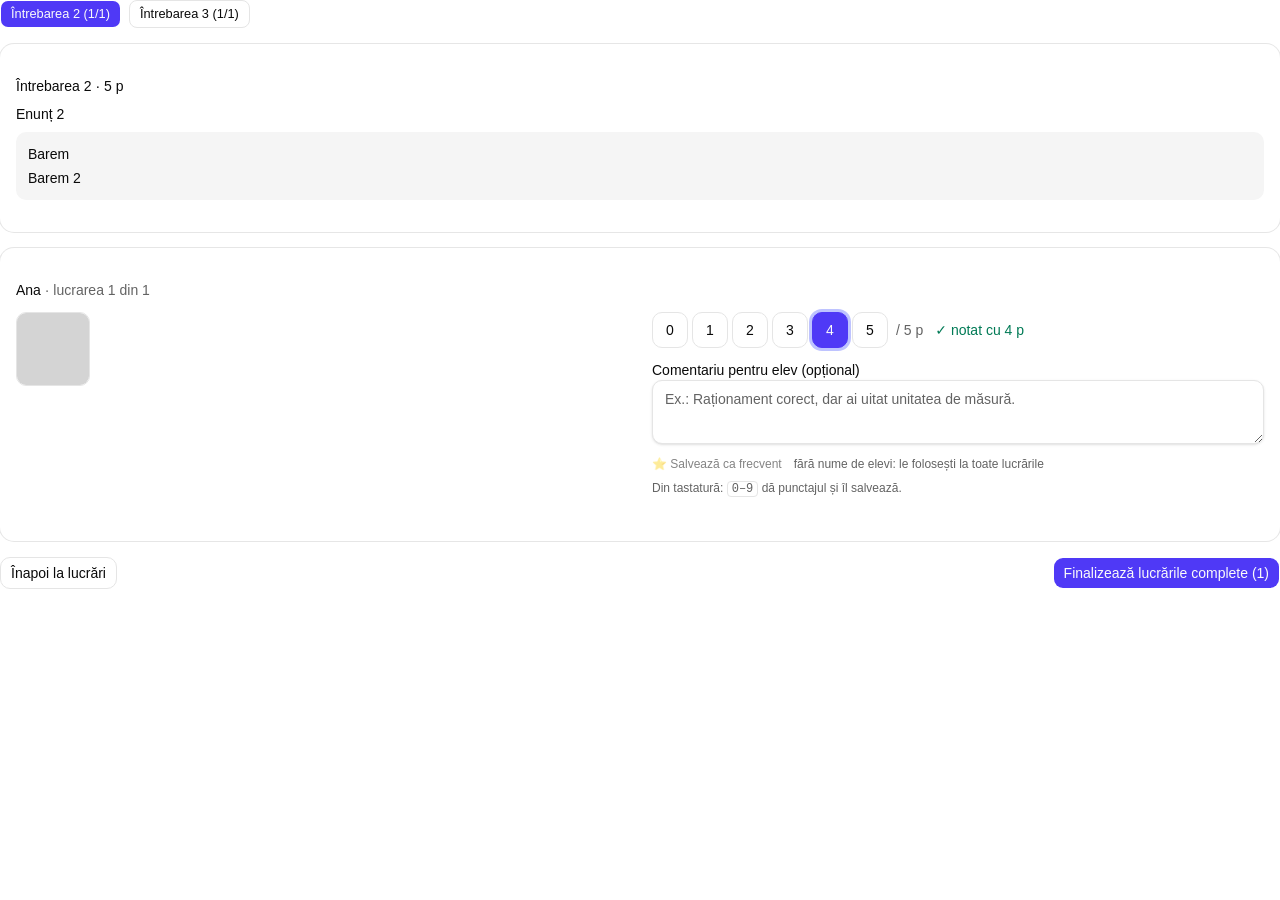
GradeByItem › says so when every paper is finalised
Click the button "Finalizează lucrările complete (1)".
click(1166, 573)  # box [1053,557,1279,589]
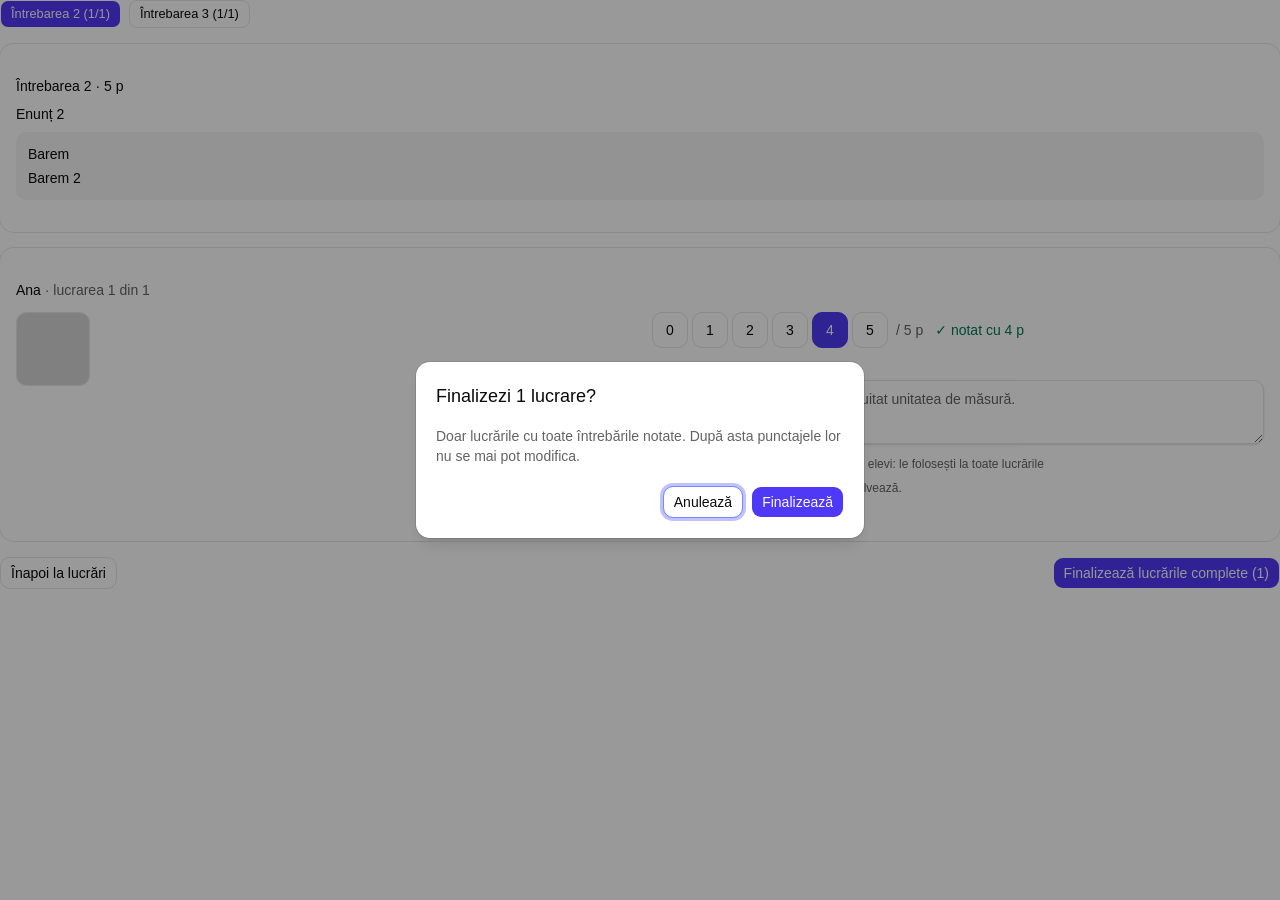
Click the button "Finalizează".
click(798, 502)  # box [751,486,844,518]
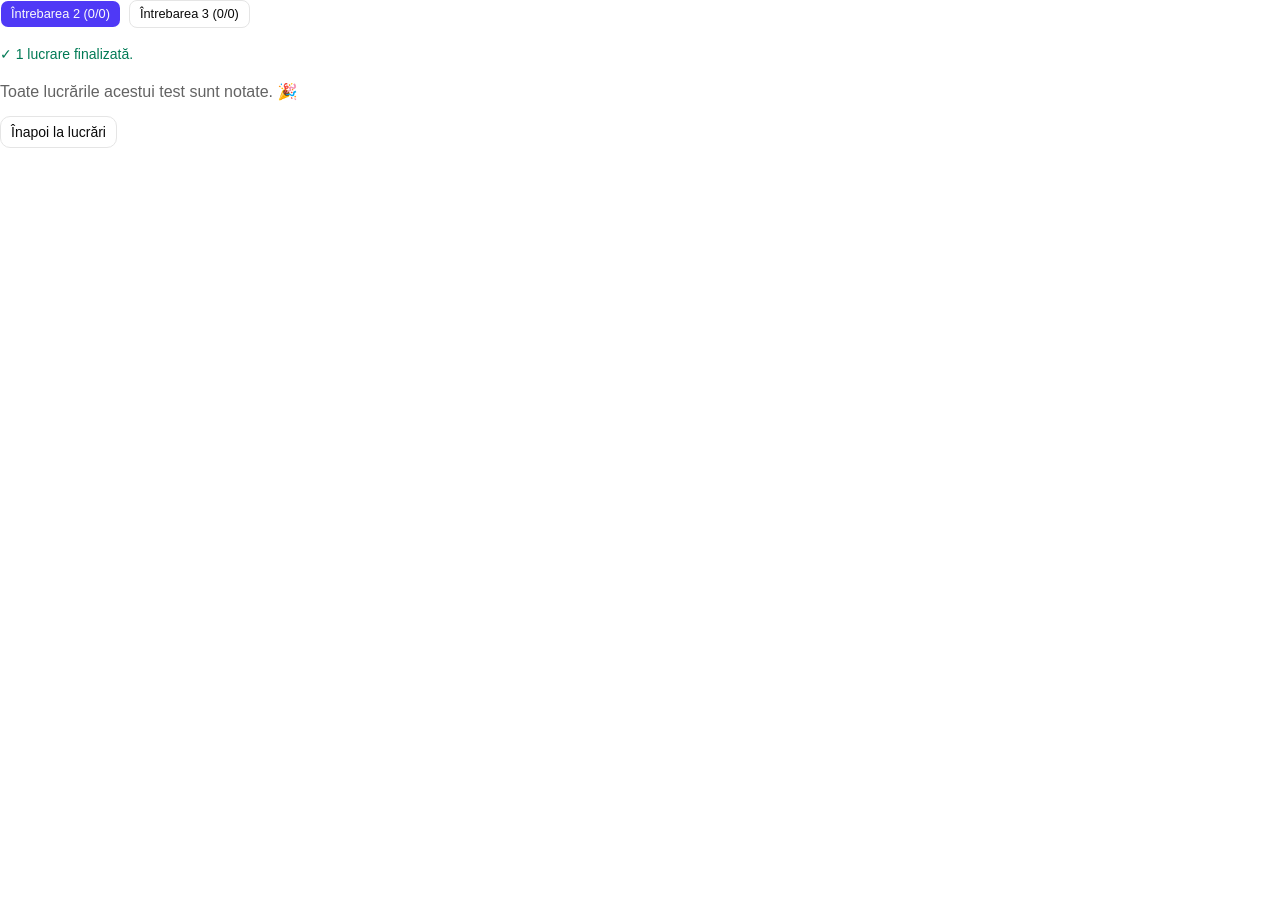
Check: the text "Toate lucrările acestui test sunt notate. 🎉" is shown, box [0,83,298,100]
